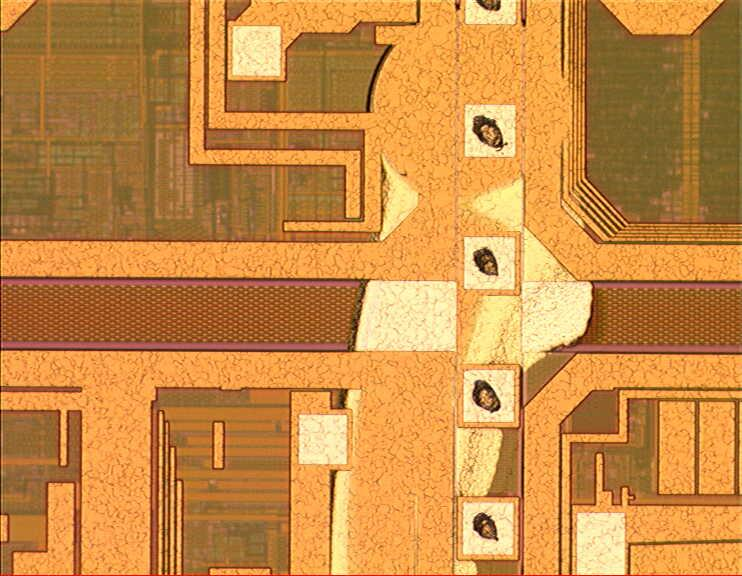BLOCK ETCH: (330, 2, 596, 576)
